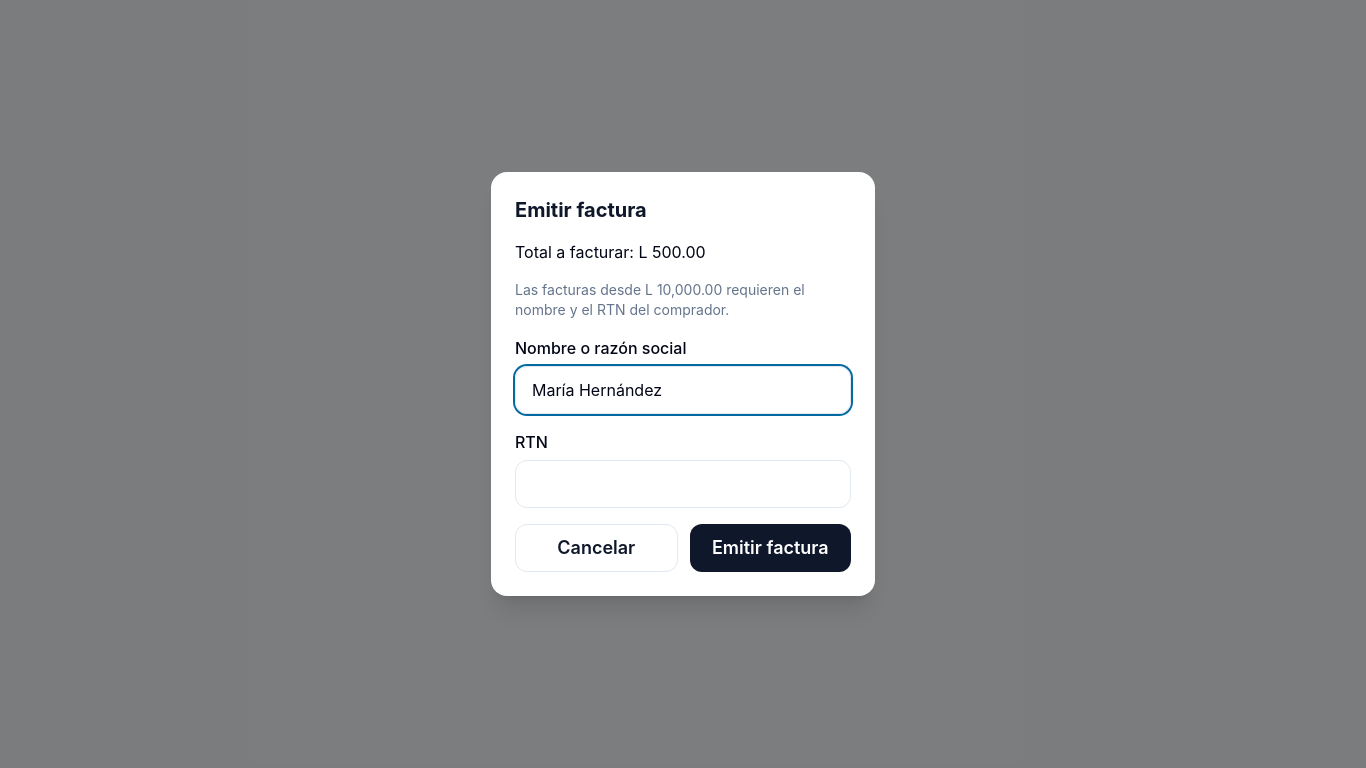
it: IssueInvoiceDialog › shows the range-exhausted message, not the generic fallback, for a 409 cai_range_exhausted response
The width and height of the screenshot is (1366, 768).
Click the button "Emitir factura". click: point(770, 548)
box: [690,524,851,572]
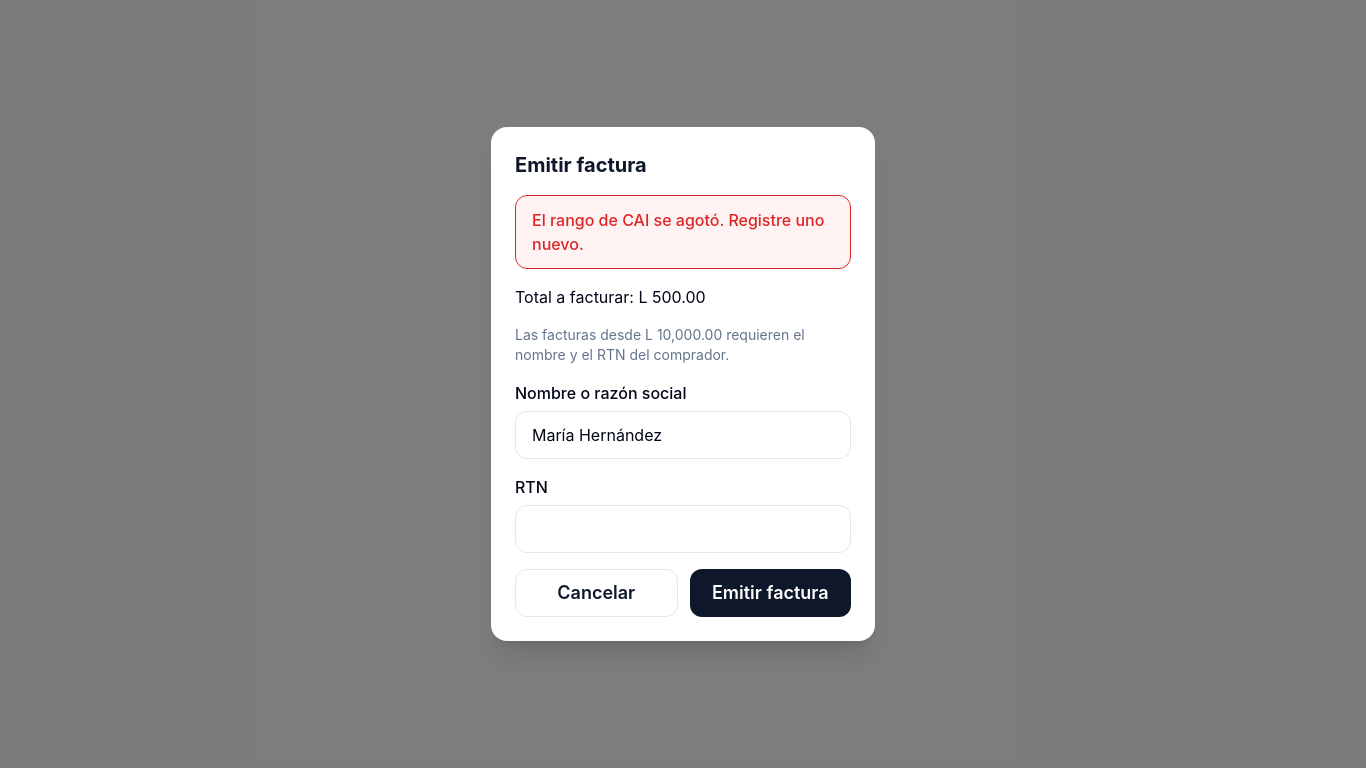
expect the text "El rango de CAI se agotó. Registre uno nuevo." is shown: met, box [515,195,851,269]
